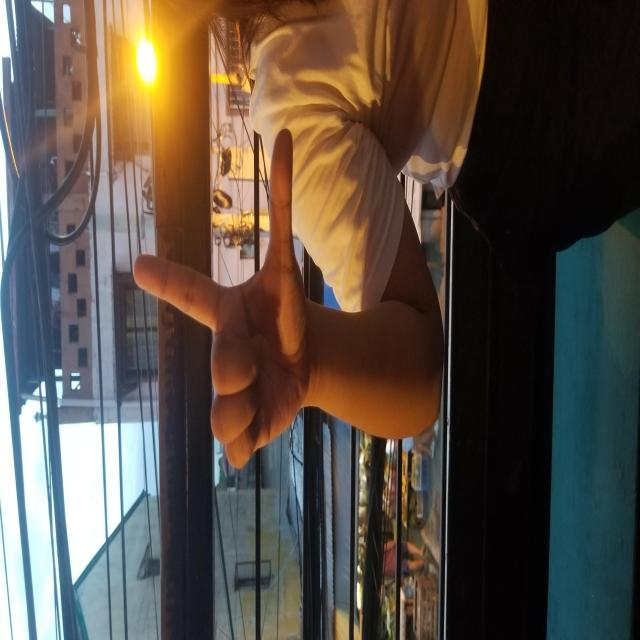L: (168, 132, 512, 310)
